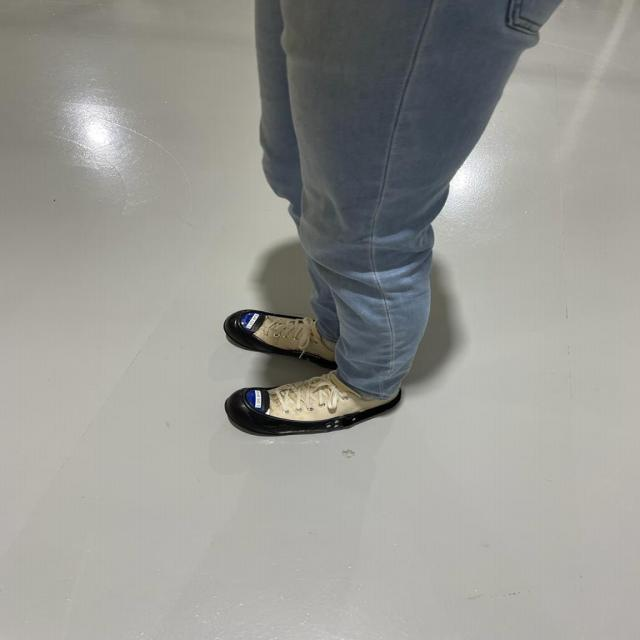shoes: (220, 379, 419, 439), (226, 298, 333, 369)
